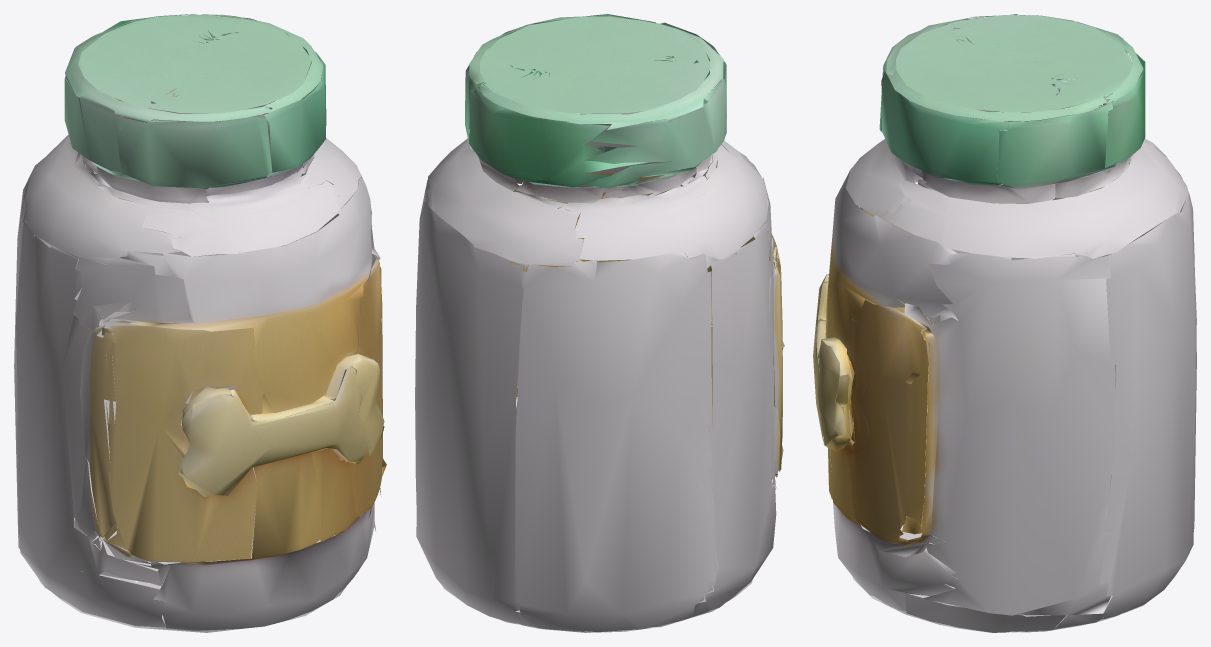
The model's file is P_Vitamin_h14.fbx.
3 views of the same model, side by side, from view 1: azimuth 30°, elevation 25°; view 2: azimuth 150°, elevation 25°; view 3: azimuth 270°, elevation 25° (orthographic).
Visible parts, largest first — view 1: P_Vitamin; view 2: P_Vitamin; view 3: P_Vitamin.
Boxes of the visible parts, x1,y1,x2,y2 form: P_Vitamin: (14, 14, 386, 632); P_Vitamin: (415, 14, 784, 632); P_Vitamin: (813, 14, 1196, 632).
Size of the model in its own units: 0.6466 by 0.999 by 0.686.
Materials: 1 (1 with a texture image).
